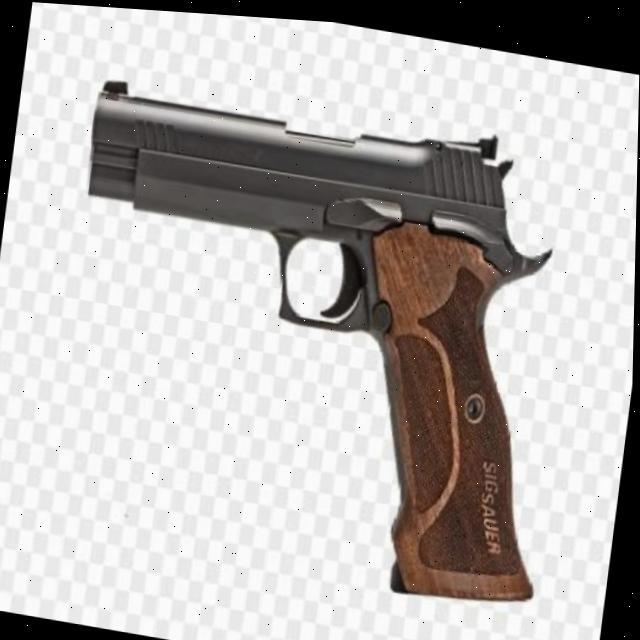gun: (29, 42, 604, 640)
